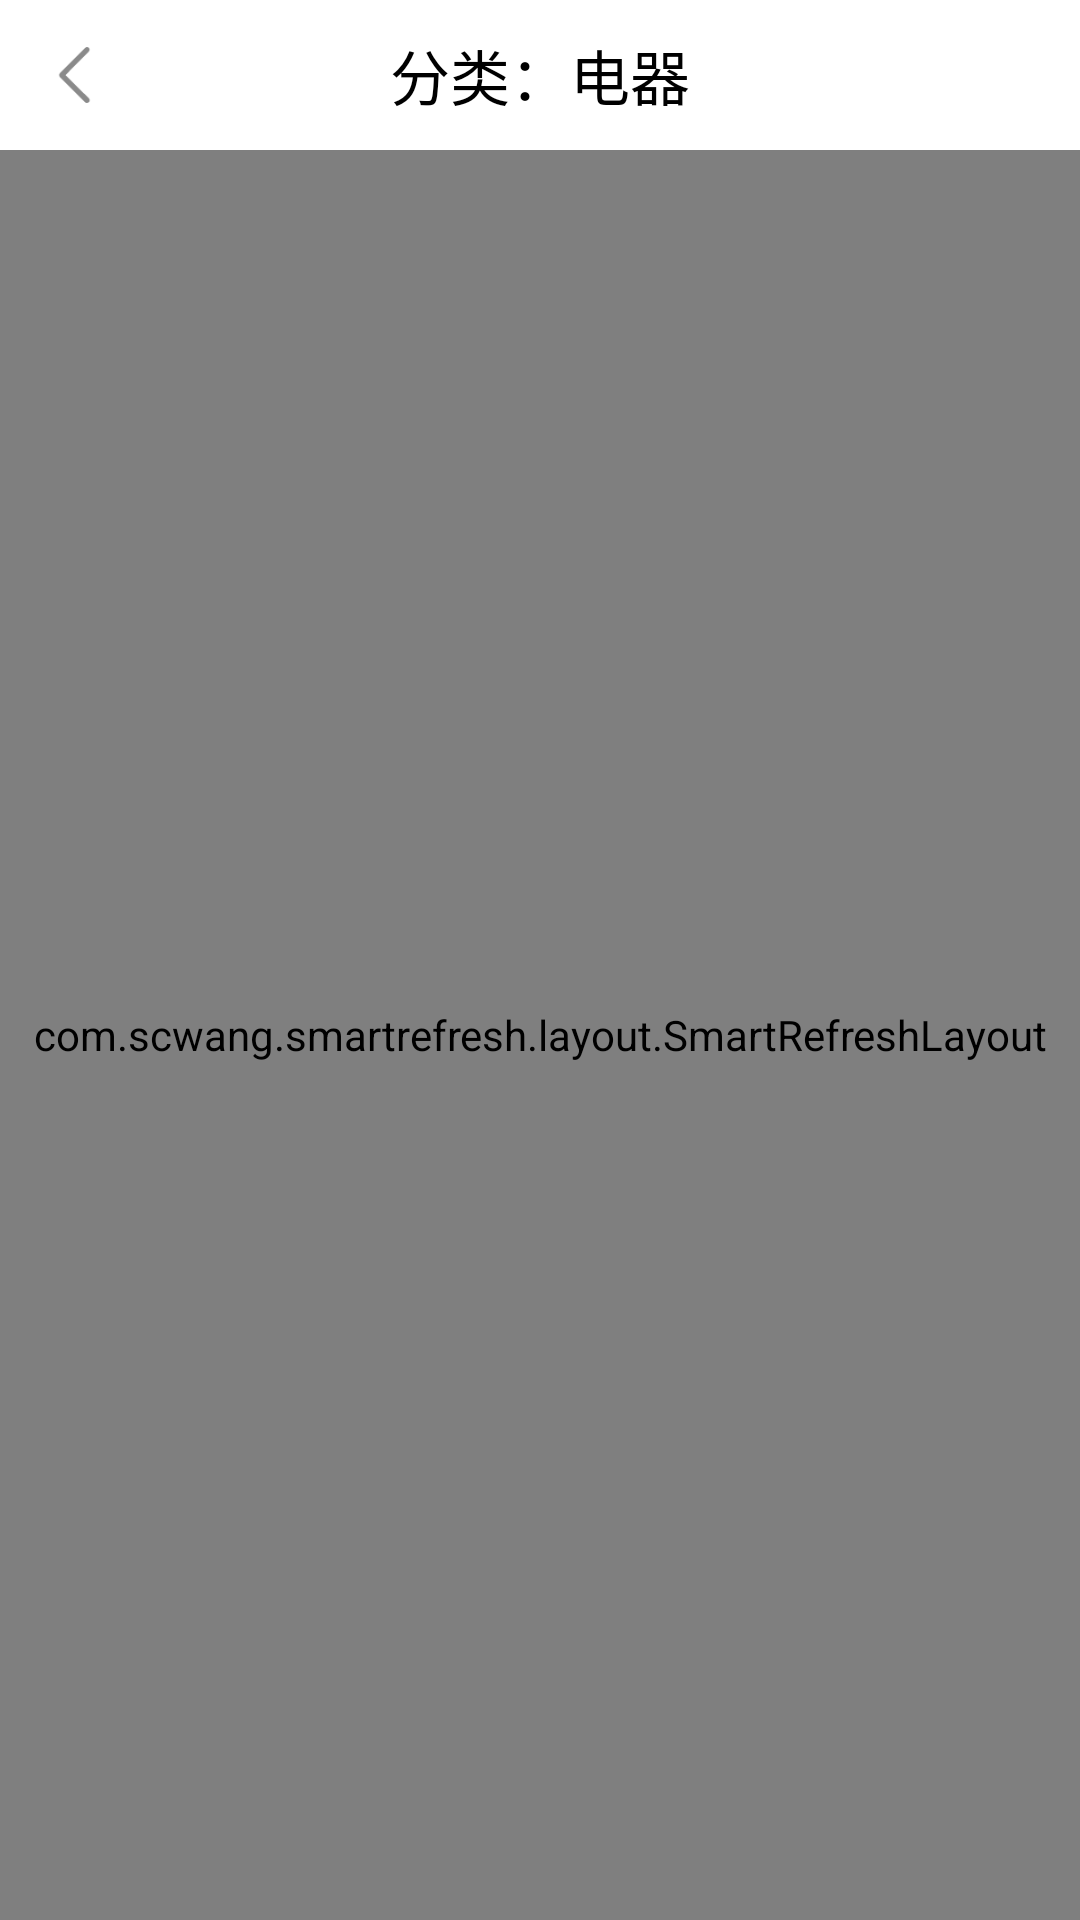

Icon bounding boxes for this 1080×1920 phone screenshot, format bbox(x1, y1, x2, y2):
arrow back: bbox(59, 47, 90, 103)
